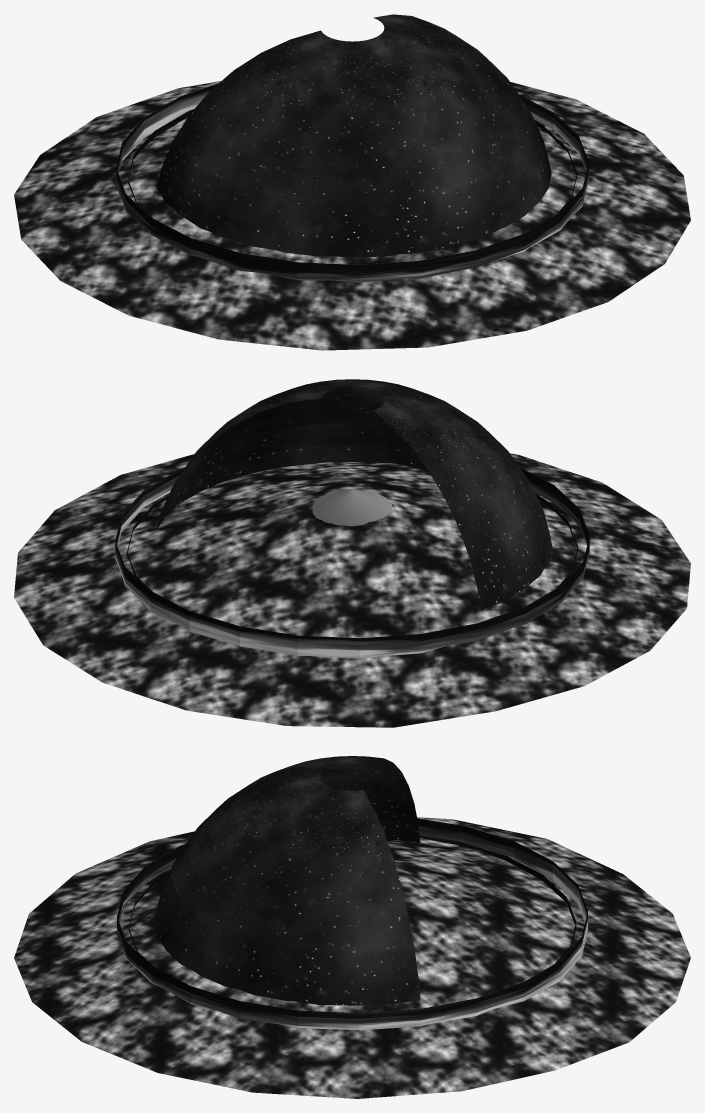
The model's file is sky.dae.
3 views of the same model, one above another, from view 1: azimuth 30°, elevation 25°; view 2: azimuth 150°, elevation 25°; view 3: azimuth 270°, elevation 25° (orthographic).
Parts seen in each view (by area): view 1: m2, m4, m3; view 2: m2, m4, m3, m1; view 3: m2, m4, m3.
Boxes of the visible parts, x1,y1,x2,y2 form: m2: (14,81,690,350); m4: (156,14,551,257); m3: (116,83,588,282); m2: (14,453,690,727); m4: (156,379,552,610); m3: (115,467,589,658); m1: (312,489,392,526); m2: (14,817,690,1098); m4: (154,756,420,1005); m3: (117,818,587,1030).
Size of the model in its own units: 299965 by 133903 by 299965.
Materials: 6 (6 with a texture image).
